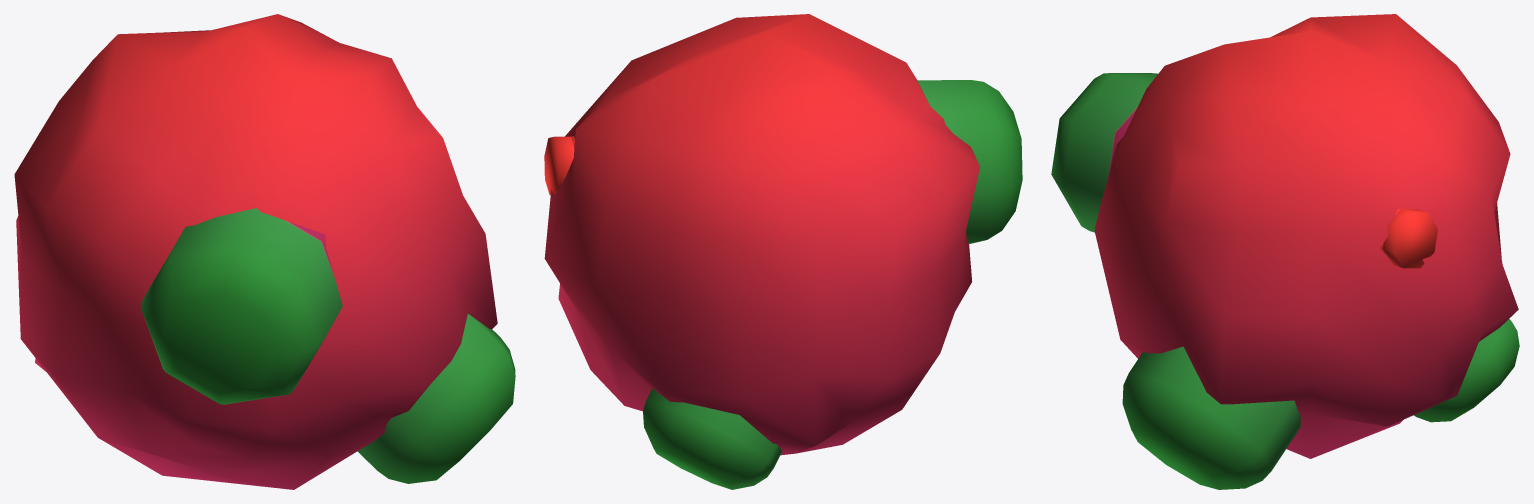
The model's file is Bola_Lixo_ Plast.fbx.
The picture shows the model from 3 angles, left to right: view 1: azimuth 30°, elevation 25°; view 2: azimuth 150°, elevation 25°; view 3: azimuth 270°, elevation 25°; orthographic projection. The views are drawn at different scales.
Parts seen in each view (by area): view 1: Bola_Lixo_ Plast; view 2: Bola_Lixo_ Plast; view 3: Bola_Lixo_ Plast.
Part boxes in pixels (x1,y1,x2,y2): Bola_Lixo_ Plast: (14, 14, 515, 489); Bola_Lixo_ Plast: (544, 14, 1022, 489); Bola_Lixo_ Plast: (1051, 14, 1519, 489).
Bounding box in the file's own units: 11.21 × 11.57 × 12.28.
